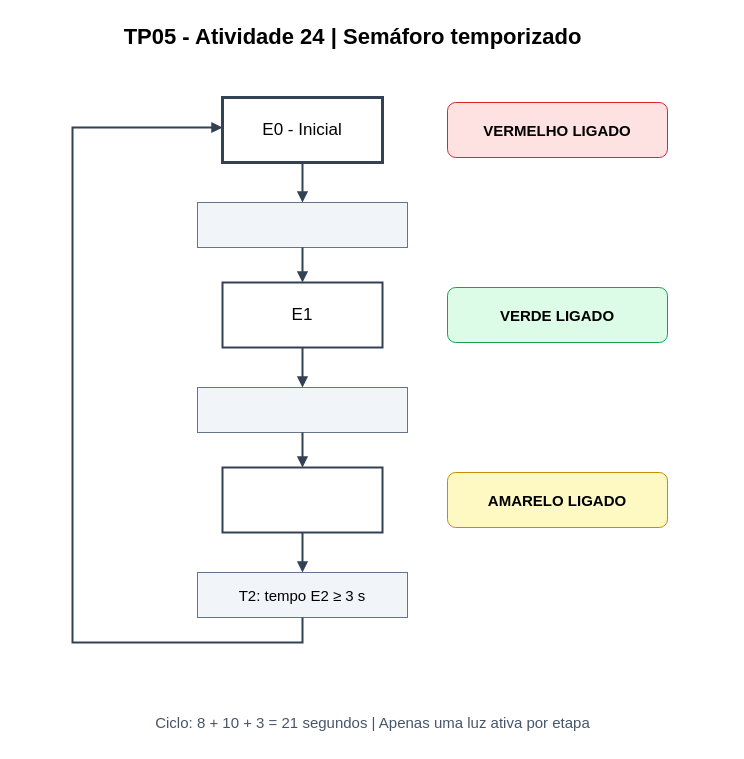
Some shapes in this 744 by 759 pixel diagram are drawn without their labels. The shapes that lost their labels are listed below. From the top down, each one's centre as x and y in pixels, then its label:
At [302,225]: "T0: tempo E0 ≥ 8 s".
At [302,409]: "T1: tempo E1 ≥ 10 s".
At [302,499]: "E2".
